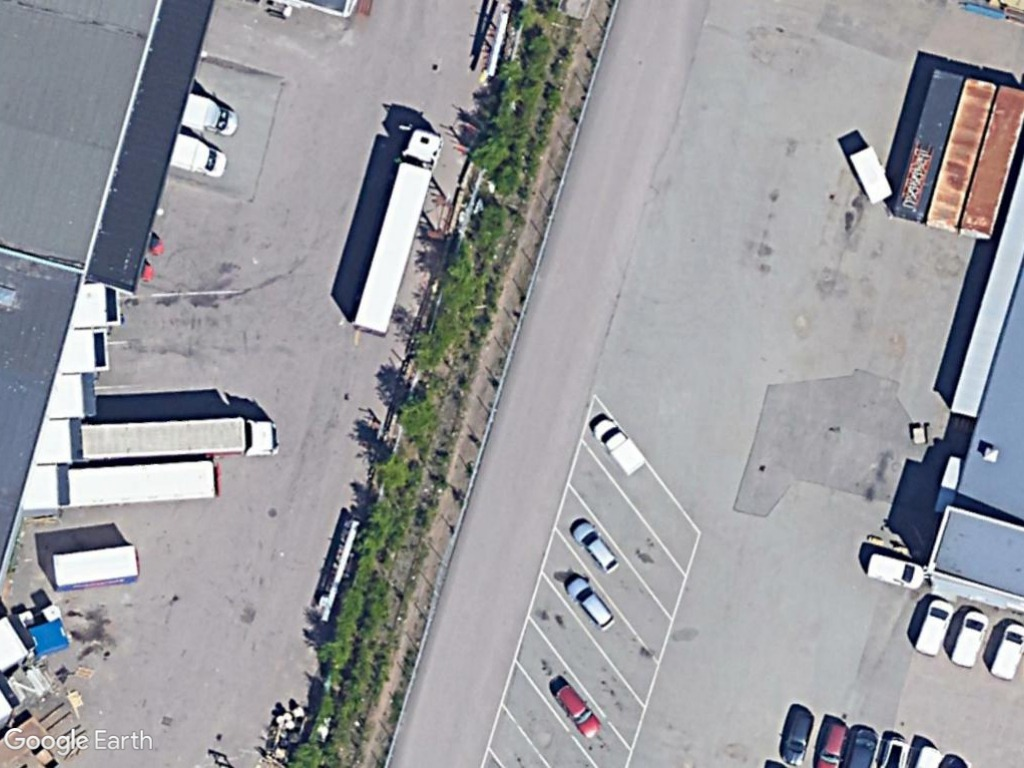car: (556, 567, 619, 634), (550, 677, 609, 743), (567, 515, 625, 576), (774, 702, 821, 768)
longvehicle: (347, 118, 450, 339), (68, 414, 288, 464)
van: (590, 414, 655, 481), (945, 608, 995, 672), (909, 596, 956, 664), (861, 548, 929, 593), (985, 617, 1024, 684)
